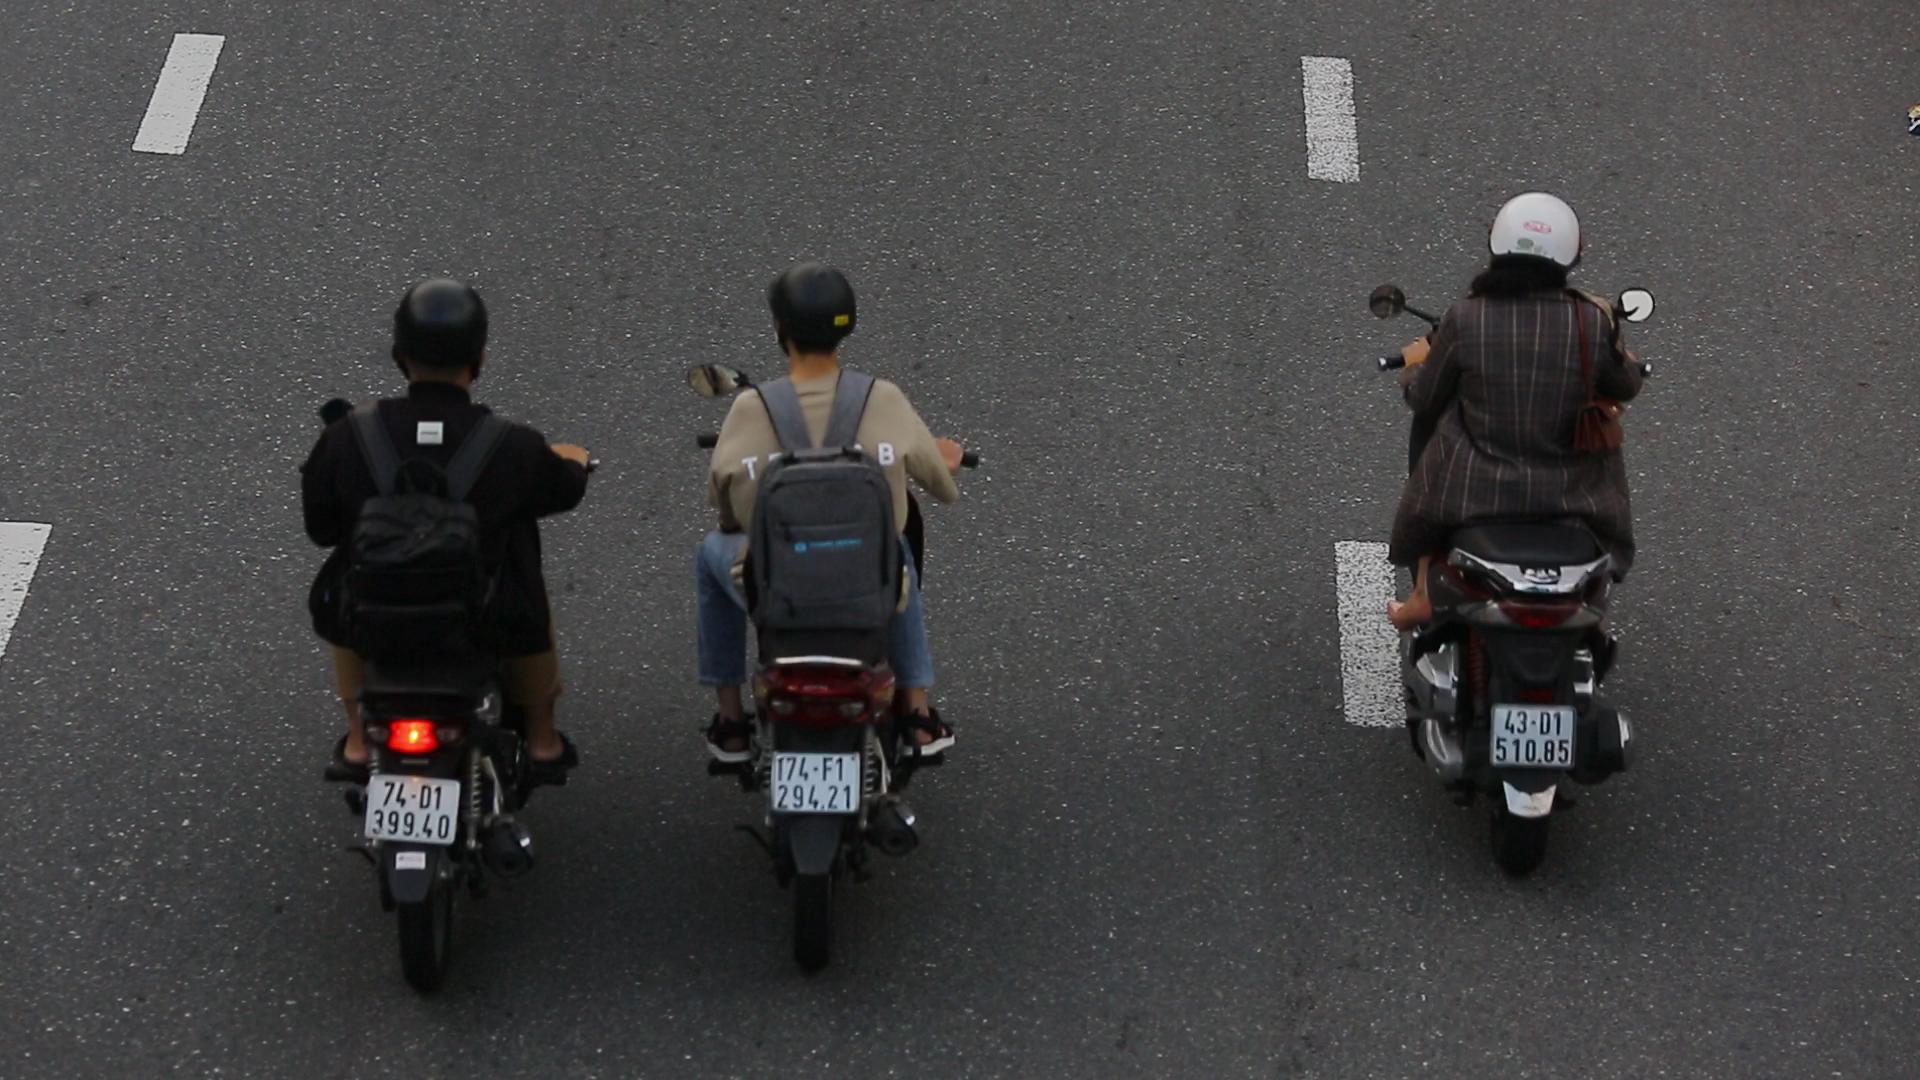motobike: (266, 265, 596, 1005), (676, 252, 967, 980), (1360, 187, 1665, 861)
